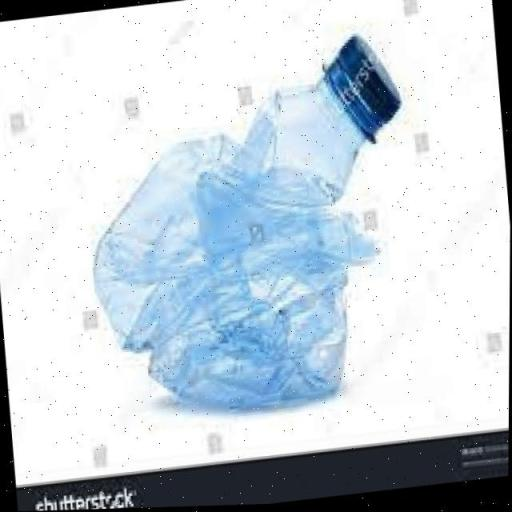plastic: (70, 27, 431, 435)
